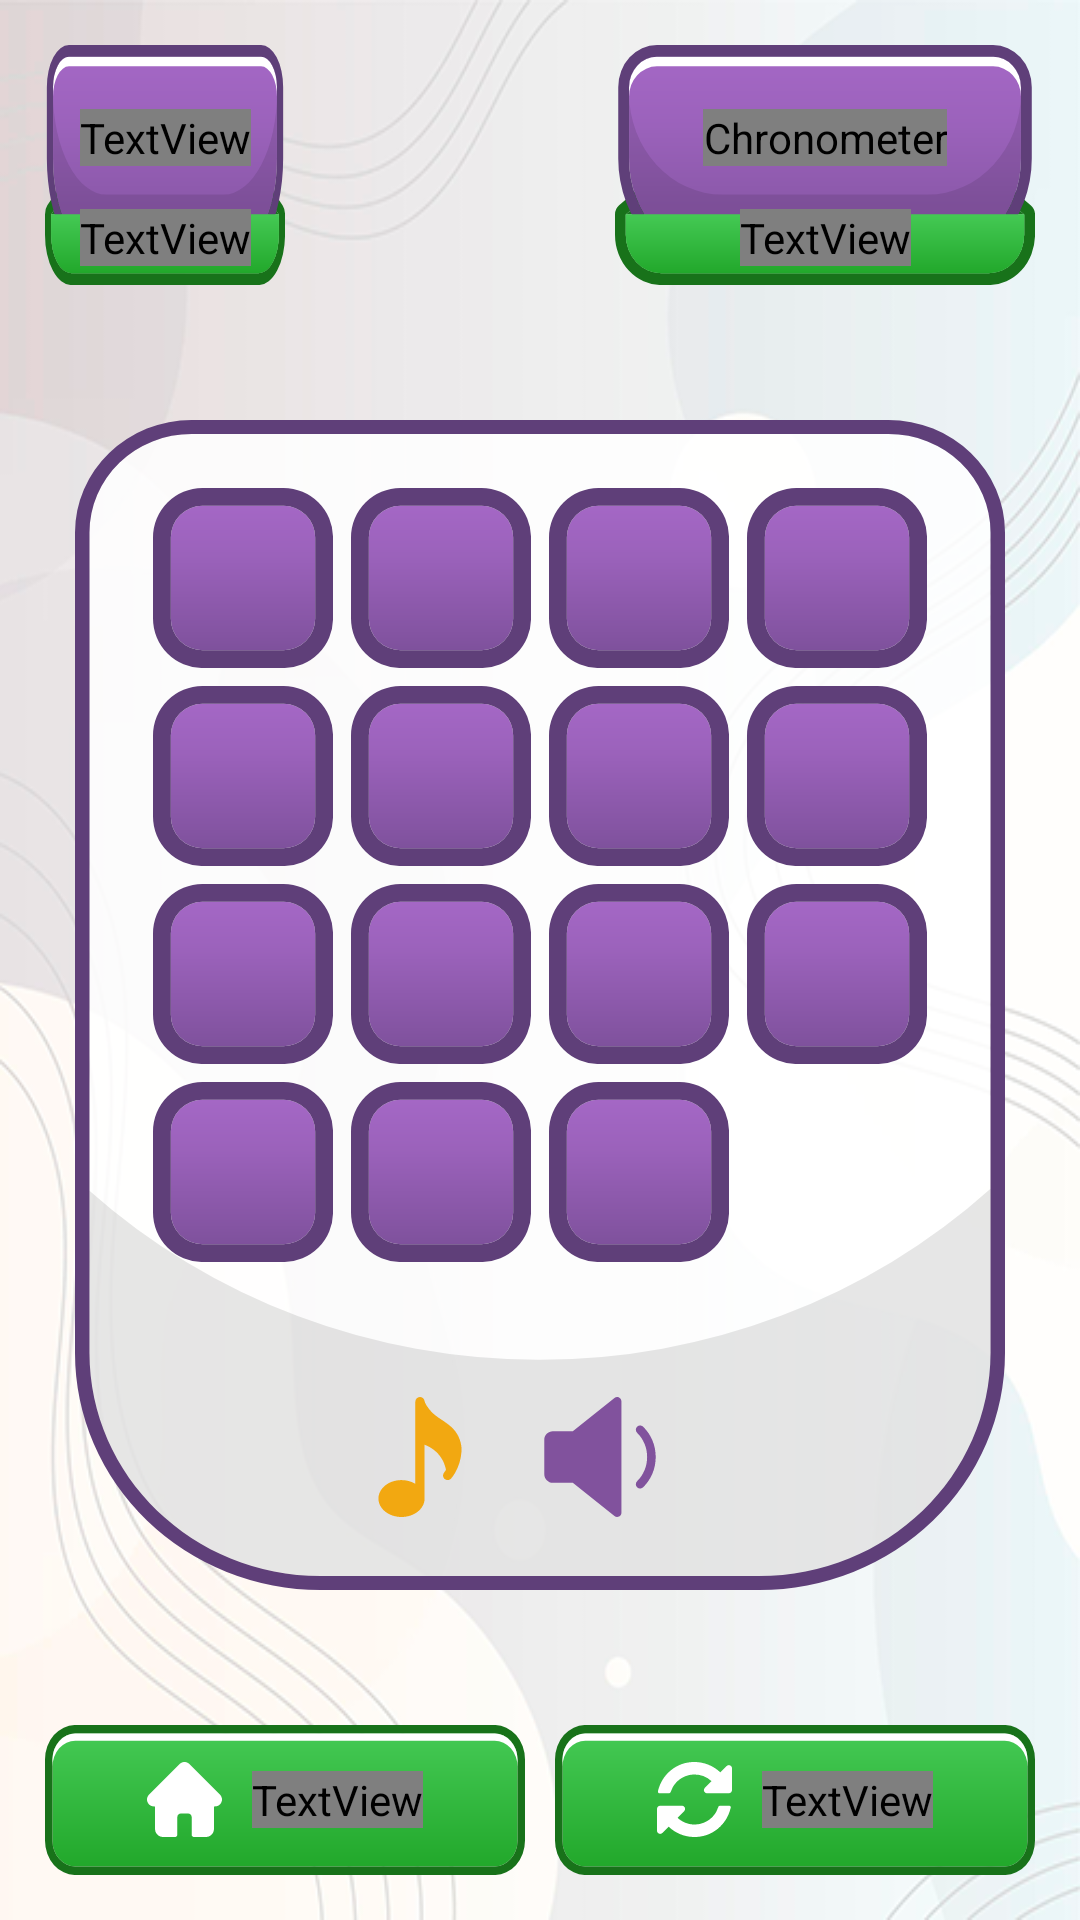

Icons on this 1080*1920 Android screen, each with the point to tap as [x,y]:
music note: [420,1457]
volume: [600,1457]
